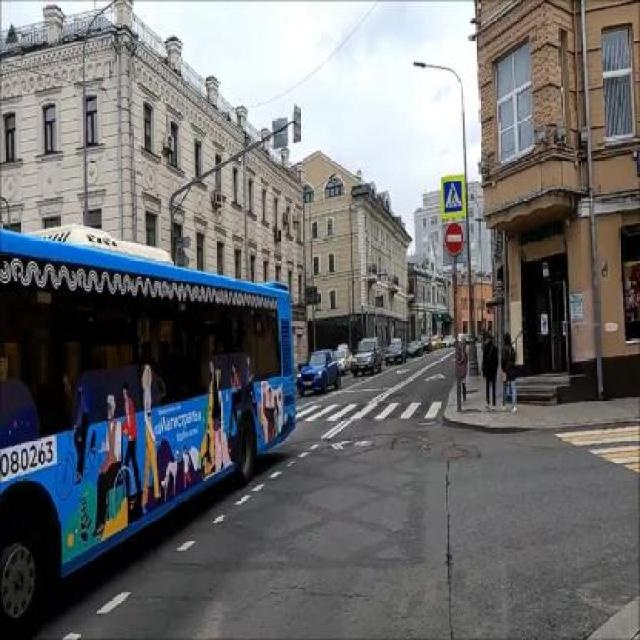Bus: (0, 229, 297, 611)
